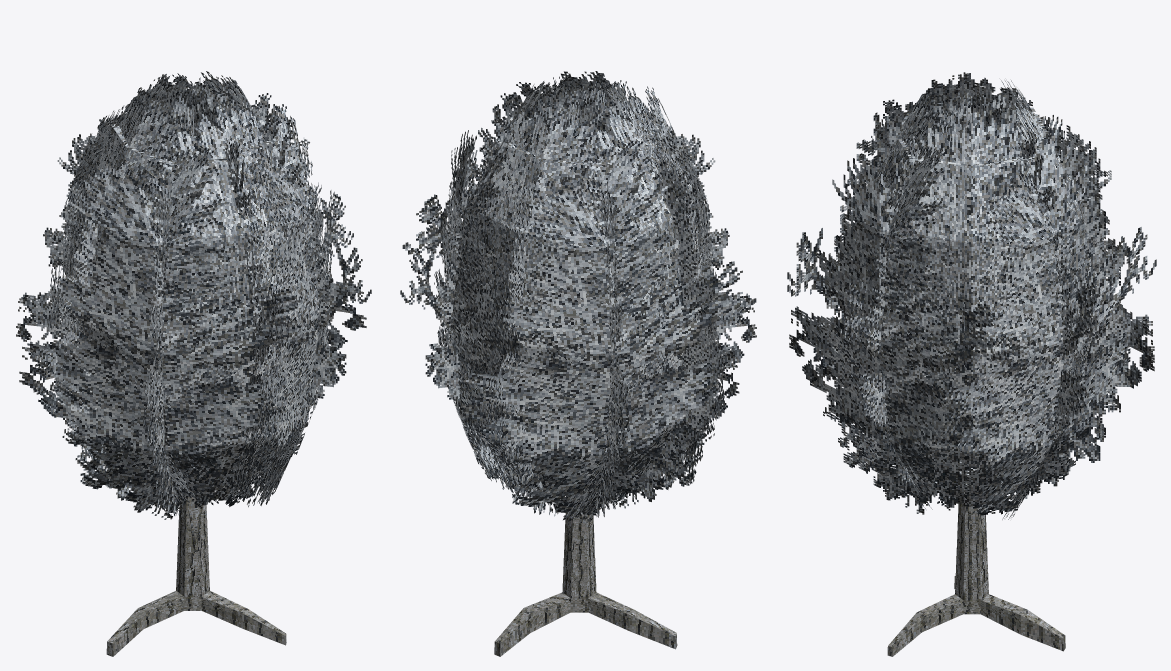
The model's file is tree02_winter.glb.
3 renders of one model, left to right at view 1: azimuth 30°, elevation 25°; view 2: azimuth 150°, elevation 25°; view 3: azimuth 270°, elevation 25°, orthographic.
Parts seen in each view (by area): view 1: tree02; view 2: tree02; view 3: tree02.
Boxes of the visible parts, x1=… form: tree02: x1=16, y1=71, x2=371, y2=656; tree02: x1=400, y1=71, x2=756, y2=656; tree02: x1=787, y1=72, x2=1156, y2=656.
Size of the model in its own units: 4.8 by 7.75 by 4.8.
1 material, 1 textured.
